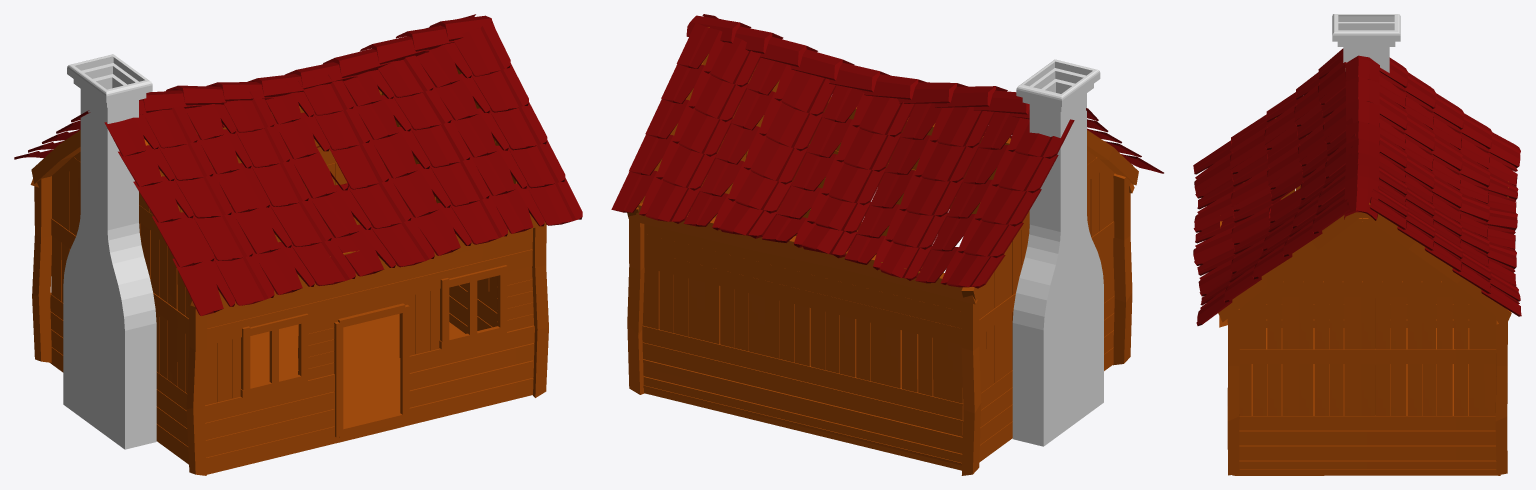
Rendered from House1.fbx.
3 views of the same model, side by side, from view 1: azimuth 30°, elevation 25°; view 2: azimuth 150°, elevation 25°; view 3: azimuth 270°, elevation 25° (orthographic). The views are drawn at different scales.
Parts seen in each view (by area): view 1: Cube.012, Cube, LOW 1, low poly.006, Cube.022, low poly.229, low poly.036, Cube.020, LOW 1.001, Cube.018, Cube.019, low poly.009 (+24 smaller); view 2: Cube.010, Cube, Cube.022, low poly.001, low poly.275, low poly.004, low poly.277, low poly.005, low poly.128, Cube.027, low poly.002, Cube.018 (+31 smaller); view 3: Cube.012, Cube.010, LOW 1.004, Cube.022, low poly.179, low poly.182, low poly.148, low poly.181, low poly.129, LOW 1.015, Cube, low poly.006 (+39 smaller).
Part boxes in pixels (x1,y1,x2,y2): Cube.012: [104, 22, 582, 315]; Cube: [63, 54, 156, 449]; LOW 1: [204, 374, 342, 474]; low poly.006: [250, 314, 464, 426]; Cube.022: [139, 15, 494, 114]; low poly.229: [207, 233, 532, 328]; low poly.036: [207, 249, 532, 345]; Cube.020: [32, 176, 51, 362]; LOW 1.001: [50, 293, 205, 464]; Cube.018: [186, 293, 206, 475]; Cube.019: [532, 225, 548, 397]; low poly.009: [402, 378, 533, 426]; Cube.010: [611, 23, 1074, 288]; Cube: [1012, 59, 1103, 446]; Cube.022: [686, 15, 1029, 119]; low poly.001: [644, 234, 961, 328]; low poly.275: [643, 359, 962, 453]; low poly.004: [642, 325, 963, 420]; low poly.277: [642, 342, 963, 436]; low poly.005: [644, 251, 961, 344]; low poly.128: [643, 376, 962, 470]; Cube.027: [635, 202, 977, 304]; low poly.002: [644, 224, 961, 311]; Cube.018: [1113, 173, 1132, 365]; Cube.012: [1193, 48, 1355, 325]; Cube.010: [1370, 57, 1521, 316]; LOW 1.004: [1273, 218, 1454, 282]; Cube.022: [1344, 55, 1379, 220]; low poly.179: [1239, 445, 1496, 460]; low poly.182: [1239, 430, 1495, 445]; low poly.148: [1239, 348, 1496, 363]; low poly.181: [1239, 415, 1495, 430]; low poly.129: [1234, 460, 1497, 475]; LOW 1.015: [1254, 281, 1472, 296]; Cube: [1332, 14, 1400, 72]; low poly.006: [1239, 328, 1496, 471].
Size of the model in its own units: 1021 by 853 by 833.
